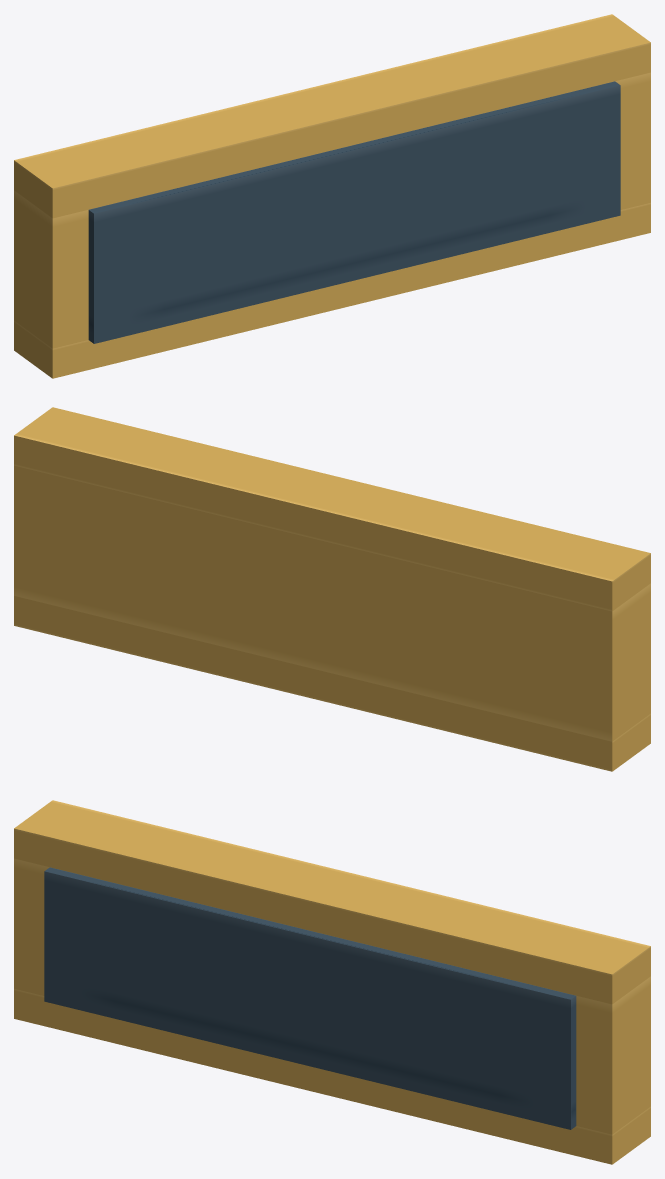
File: sc_pushram.obj
3 renders of one model, top to bottom at view 1: azimuth 30°, elevation 25°; view 2: azimuth 150°, elevation 25°; view 3: azimuth 330°, elevation 25°, orthographic.
Bounding box in the file's own units: 12.5 × 3.8 × 1.6.
1 material, 1 textured.
